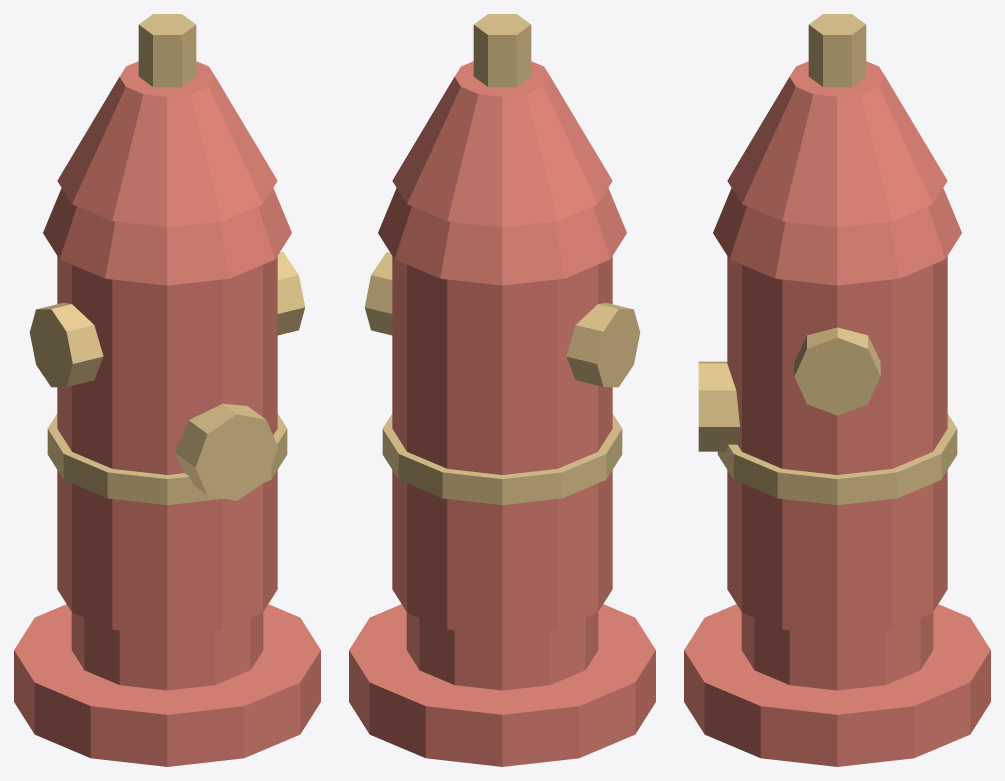
File: Prop_Hydrant_A.fbx
3 views of the same model, side by side, from view 1: azimuth 30°, elevation 25°; view 2: azimuth 150°, elevation 25°; view 3: azimuth 270°, elevation 25° (orthographic).
Parts seen in each view (by area): view 1: Prop_Hydrant_A; view 2: Prop_Hydrant_A; view 3: Prop_Hydrant_A.
Part boxes in pixels (x1,y1,x2,y2): Prop_Hydrant_A: [14, 14, 320, 766]; Prop_Hydrant_A: [349, 14, 655, 766]; Prop_Hydrant_A: [684, 14, 990, 766].
Bounding box in the file's own units: 0.32 × 0.78 × 0.32.
